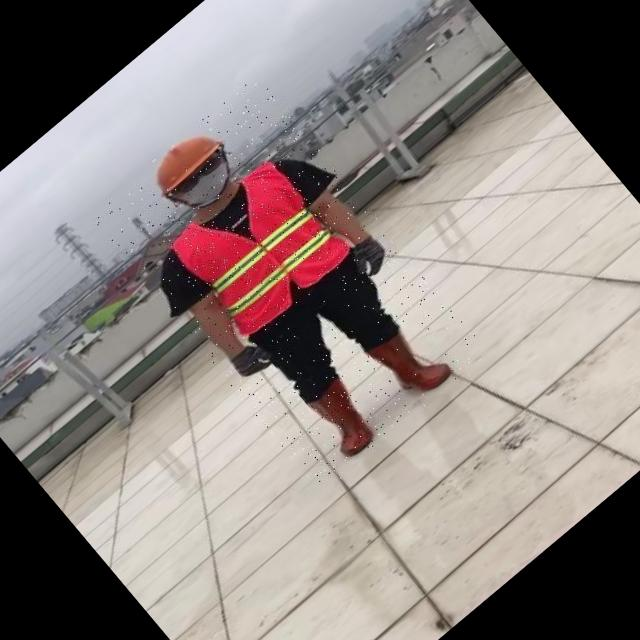hard_hat: (138, 118, 227, 202)
safety_vest: (162, 154, 358, 348)
vehicle: (88, 74, 490, 494)
work_boots: (366, 312, 459, 408), (298, 373, 389, 466)
